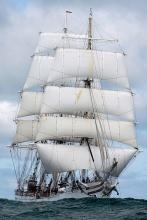fanchuan: (11, 7, 142, 203)
